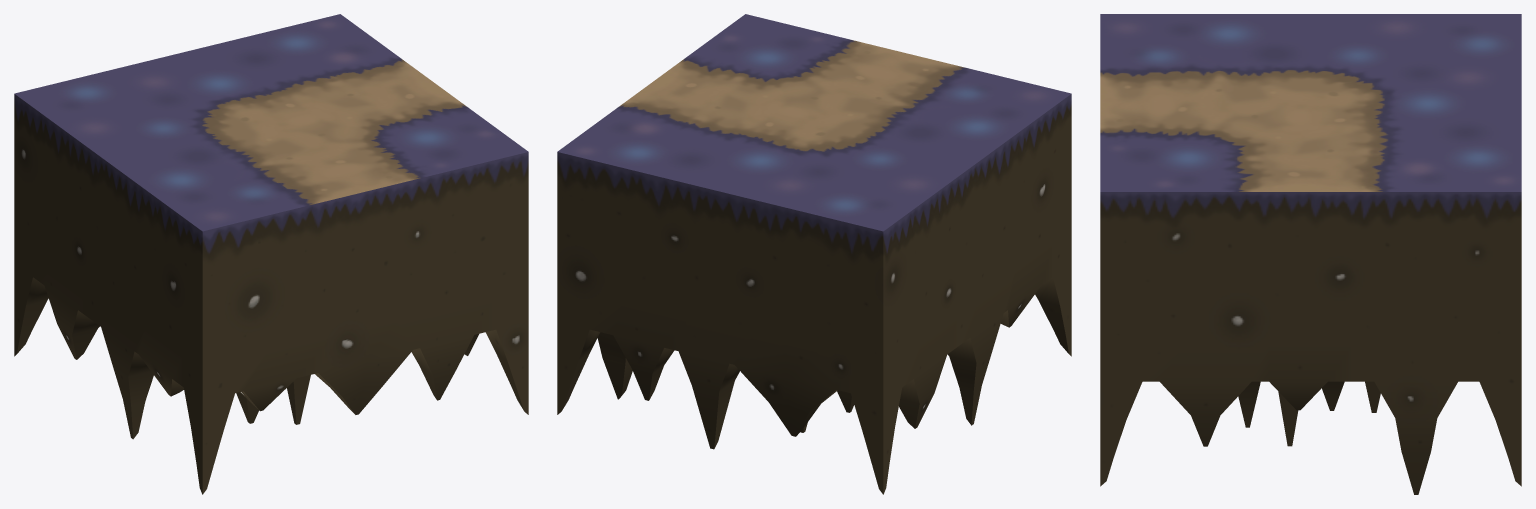
Rendered from Island_CurvedPath_SEV_001.FBX.
3 renders of one model, left to right at view 1: azimuth 30°, elevation 25°; view 2: azimuth 150°, elevation 25°; view 3: azimuth 270°, elevation 25°, orthographic. The views are drawn at different scales.
Visible parts, largest first — view 1: CurvedPath; view 2: CurvedPath; view 3: CurvedPath.
Part boxes in pixels (x1,y1,x2,y2): CurvedPath: (14, 14, 528, 494); CurvedPath: (557, 14, 1071, 494); CurvedPath: (1100, 14, 1521, 494).
Bounding box in the file's own units: 10 × 8.73 × 10.
